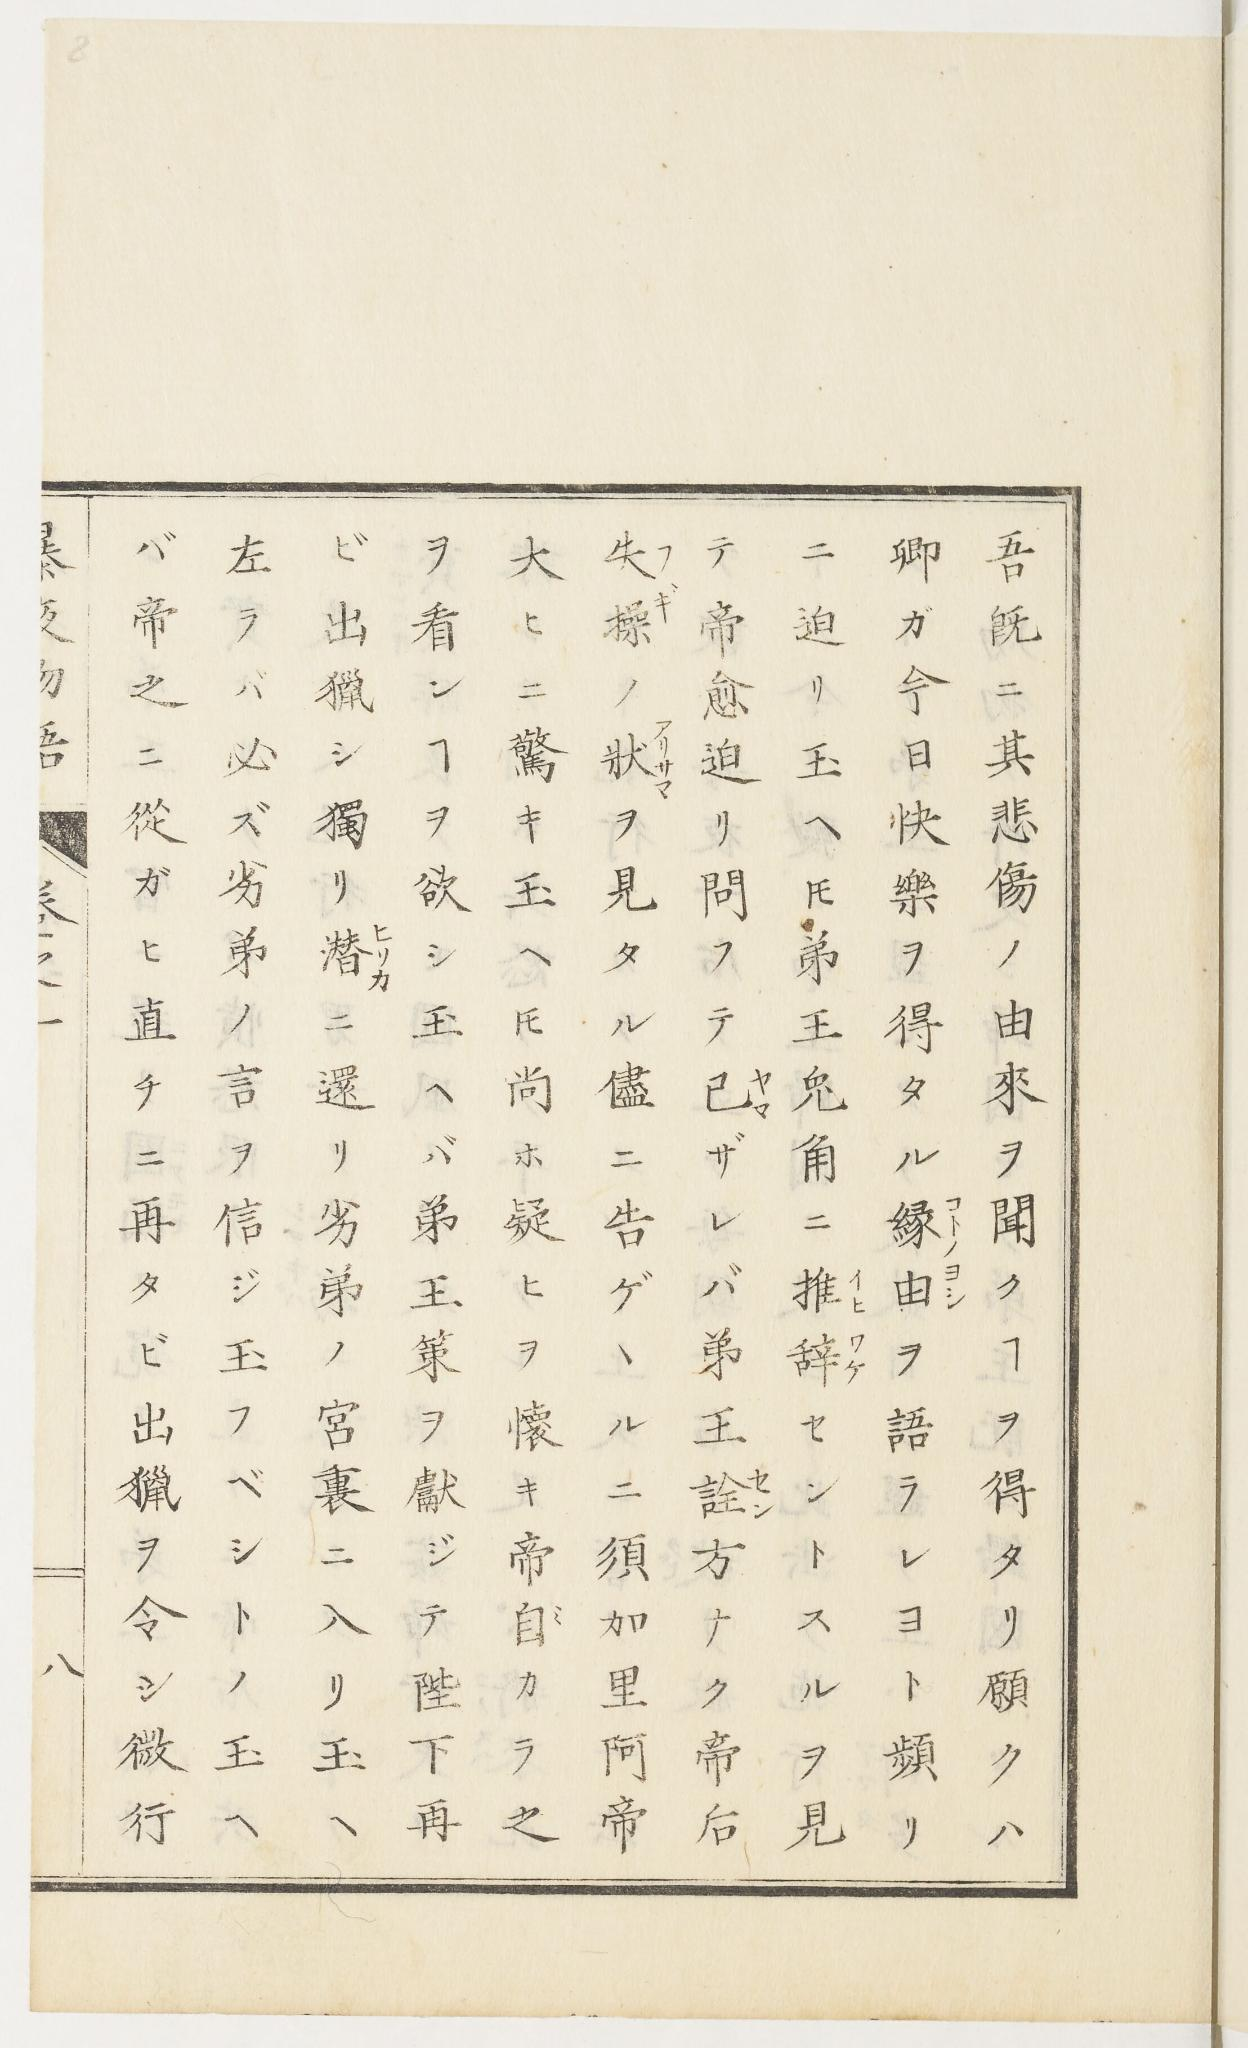MainZone-Character: (598, 714, 685, 806), (777, 1318, 875, 1396), (696, 1053, 784, 1128), (593, 581, 688, 650), (313, 923, 395, 1001), (689, 1463, 784, 1529), (884, 1189, 969, 1257), (890, 1260, 976, 1318), (786, 1261, 872, 1317), (511, 1592, 572, 1656), (600, 530, 680, 575)
MainZone-Ruby: (645, 715, 676, 806), (367, 923, 398, 996), (938, 1191, 966, 1255), (749, 1061, 777, 1125), (748, 1464, 777, 1524), (942, 1262, 973, 1312), (651, 579, 685, 622), (844, 1328, 869, 1384), (846, 1262, 869, 1314), (549, 1602, 569, 1635), (657, 540, 674, 569)
